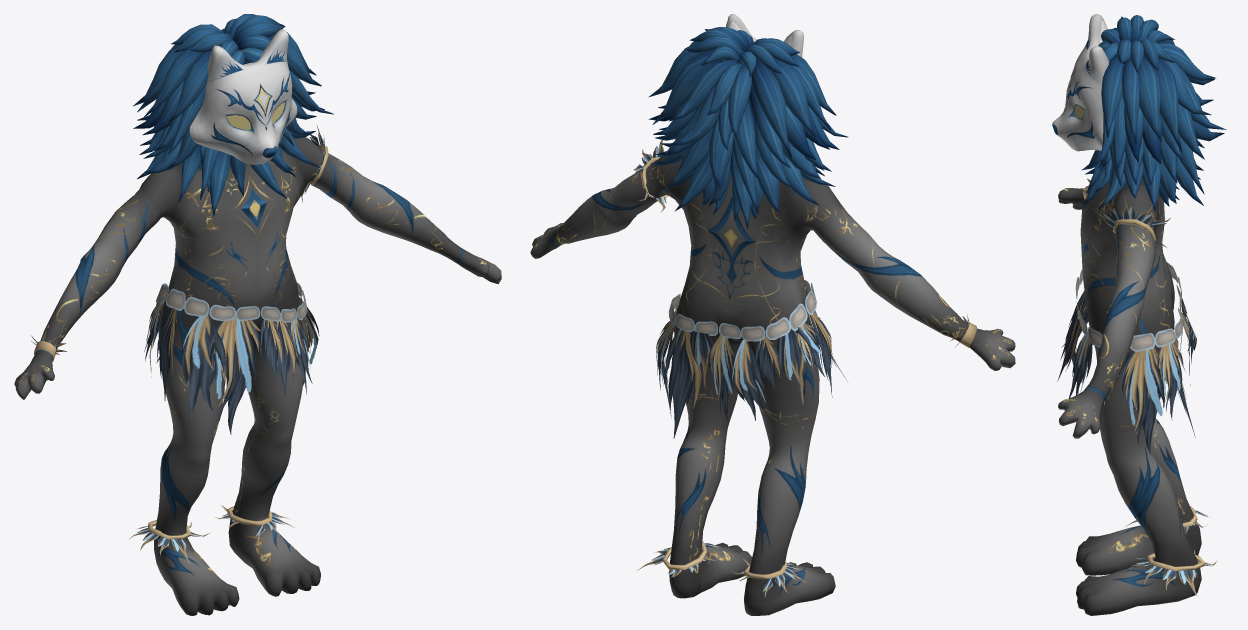
File: F_Fox.fbx
The picture shows the model from 3 angles, left to right: view 1: azimuth 30°, elevation 25°; view 2: azimuth 150°, elevation 25°; view 3: azimuth 270°, elevation 25°; orthographic projection.
Visible parts, largest first — view 1: F_Fox, F_Fox_Outfit, F_FoxMask; view 2: F_Fox, F_Fox_Outfit; view 3: F_Fox, F_Fox_Outfit, F_FoxMask.
Part boxes in pixels (x1,y1,x2,y2): F_Fox: [14, 14, 501, 615]; F_Fox_Outfit: [31, 125, 328, 563]; F_FoxMask: [189, 29, 297, 164]; F_Fox: [530, 27, 1015, 615]; F_Fox_Outfit: [633, 140, 976, 597]; F_Fox: [1058, 15, 1226, 615]; F_Fox_Outfit: [1057, 178, 1217, 596]; F_FoxMask: [1052, 14, 1109, 151].
Size of the model in its own units: 174 by 194 by 59.57.
Materials: 3 (3 with a texture image).
